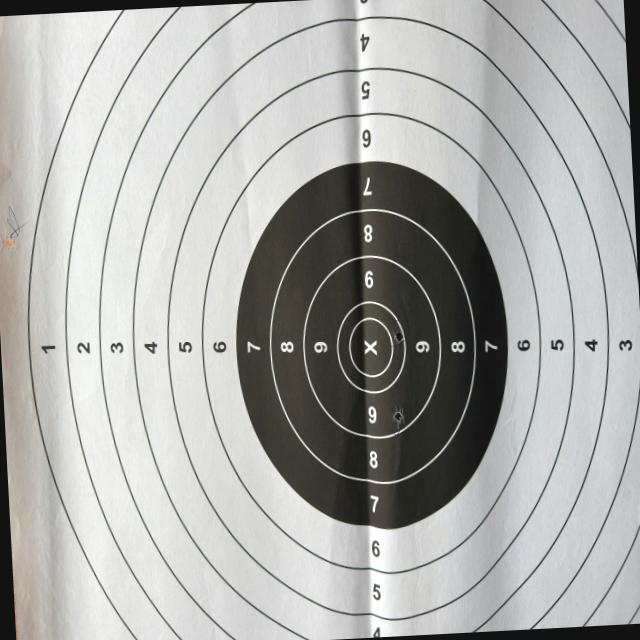bullet: (394, 411, 403, 423), (396, 332, 404, 343)
target: (0, 0, 640, 640)
